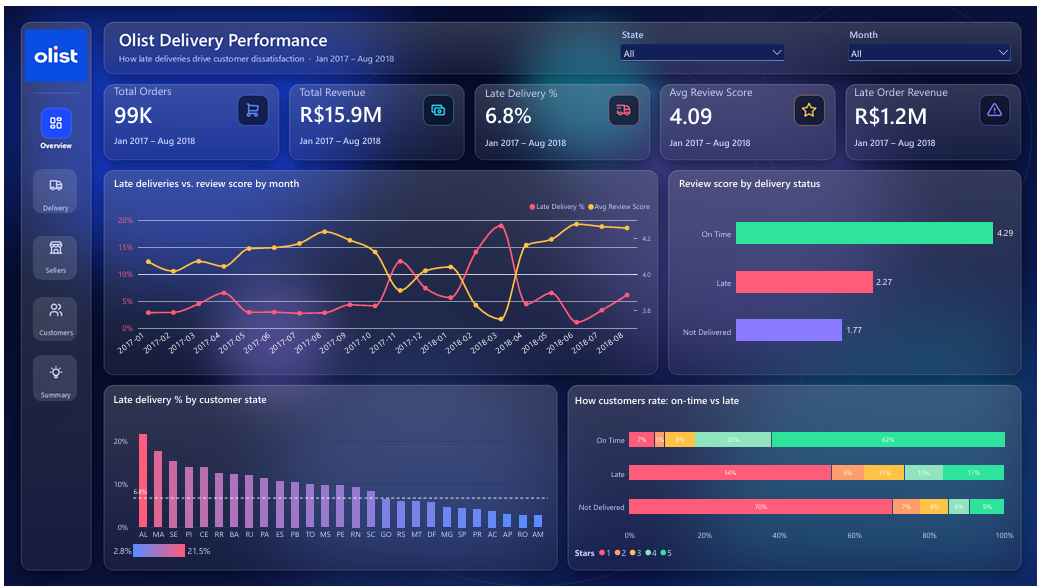

Layout of this report page (visuals, bound fields, positions):
{"tool":"powerbi","page":{"name":"Overview","canvas":[1920,1080],"ordinal":1},"visuals":[{"type":"cardVisual","fields":{"Data":["_Measures.Total Orders"]},"box":[186.5,147.3,233.7,153.2],"z":0},{"type":"slicer","fields":{"Values":["Calendar.Year-Month"]},"box":[1563.1,39.3,313.8,80.5],"z":1000},{"type":"slicer","fields":{"Values":["Customers.customer_state"]},"box":[1140.5,38.9,315.4,79.9],"z":2000},{"type":"cardVisual","fields":{"Data":["_Measures.Late Order Revenue"]},"box":[1563.8,149,248.4,153.4],"z":3000},{"type":"cardVisual","fields":{"Data":["_Measures.Avg Review Score"]},"box":[1220.4,149,216,153.4],"z":4000},{"type":"cardVisual","fields":{"Data":["_Measures.Late Delivery %"]},"box":[877,149,218.2,153.4],"z":5000},{"type":"cardVisual","fields":{"Data":["_Measures.Total Revenue"]},"box":[532.1,147.3,243.5,153.2],"z":6000},{"type":"lineChart","title":"Late deliveries vs. review score by month","fields":{"Category":["Calendar.Year-Month"],"Y":["_Measures.Late Delivery %"],"Y2":["_Measures.Avg Review Score"]},"box":[186.5,302.4,1034.8,379],"z":7000},{"type":"clusteredBarChart","title":"Review score by delivery status","fields":{"Category":["Orders.Delivery Status"],"Y":["_Measures.Avg Review Score"]},"box":[1237.7,302.4,654.5,378],"z":8000},{"type":"clusteredColumnChart","title":"Late delivery % by customer state","fields":{"Category":["Customers.customer_state"],"Y":["_Measures.Late Delivery %"]},"box":[185.8,704.2,840.2,341.3],"z":9000},{"type":"hundredPercentStackedBarChart","title":"How customers rate: on-time vs late","fields":{"Category":["Orders.Delivery Status"],"Series":["Reviews.review_score"],"Y":["_Measures.Review Count"]},"box":[1044.4,704.7,848.2,341.8],"z":10000},{"type":"actionButton","box":[51.8,540,82.1,82.1],"z":11000},{"type":"actionButton","box":[51.8,425.5,82.1,82.1],"z":12000},{"type":"actionButton","box":[51.8,302.4,82.1,82.1],"z":13000},{"type":"actionButton","box":[51.8,648,82.1,86.4],"z":13001}]}

Visuals, with their boxes on the page's 1920x1080 design canvas (x1, y1, x2, y2). These are canvas units, not pixel positions in the 1051x588 screenshot, which may show the page scaled, cropped or inside an application window:
cardVisual - _Measures.Total Orders: [x1=186, y1=147, x2=420, y2=300]
slicer - Calendar.Year-Month: [x1=1563, y1=39, x2=1877, y2=120]
slicer - Customers.customer_state: [x1=1140, y1=39, x2=1456, y2=119]
cardVisual - _Measures.Late Order Revenue: [x1=1564, y1=149, x2=1812, y2=302]
cardVisual - _Measures.Avg Review Score: [x1=1220, y1=149, x2=1436, y2=302]
cardVisual - _Measures.Late Delivery %: [x1=877, y1=149, x2=1095, y2=302]
cardVisual - _Measures.Total Revenue: [x1=532, y1=147, x2=776, y2=300]
"Late deliveries vs. review score by month" lineChart: [x1=186, y1=302, x2=1221, y2=681]
"Review score by delivery status" clusteredBarChart: [x1=1238, y1=302, x2=1892, y2=680]
"Late delivery % by customer state" clusteredColumnChart: [x1=186, y1=704, x2=1026, y2=1046]
"How customers rate: on-time vs late" hundredPercentStackedBarChart: [x1=1044, y1=705, x2=1893, y2=1046]
actionButton: [x1=52, y1=540, x2=134, y2=622]
actionButton: [x1=52, y1=426, x2=134, y2=508]
actionButton: [x1=52, y1=302, x2=134, y2=384]
actionButton: [x1=52, y1=648, x2=134, y2=734]
